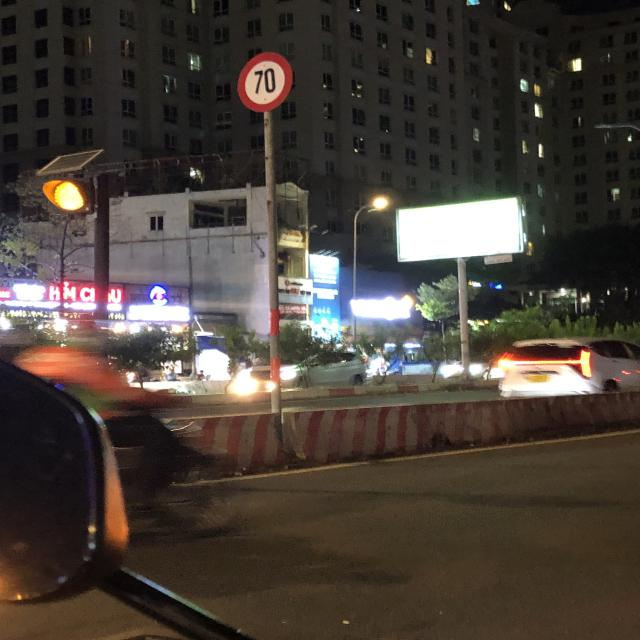Bien bao toc do toi da cho phep: (232, 50, 296, 114)
